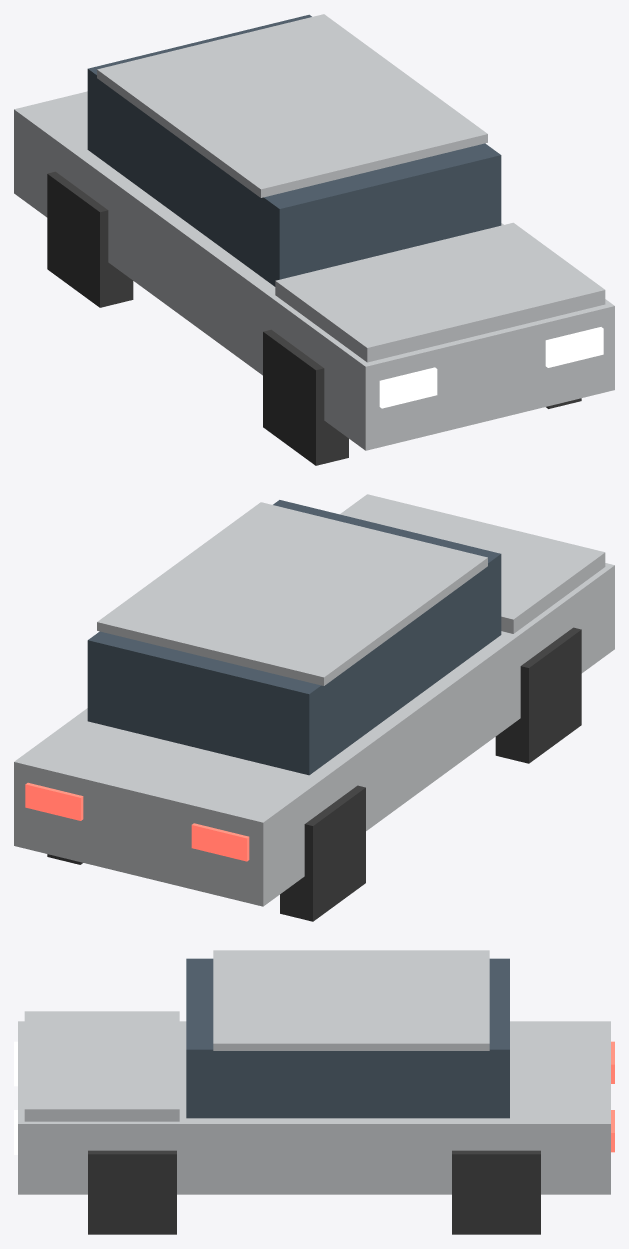
Rendered from car-1.glb.
The picture shows the model from 3 angles, top to bottom: view 1: azimuth 30°, elevation 25°; view 2: azimuth 150°, elevation 25°; view 3: azimuth 270°, elevation 25°; orthographic projection. The views are drawn at different scales.
Bounding box in the file's own units: 1.92 × 1.5 × 4.46.
